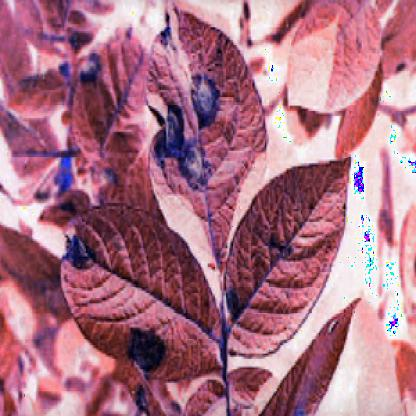potato leaf early blight: (143, 9, 270, 262), (61, 206, 225, 380), (226, 147, 351, 361), (259, 300, 367, 414)
